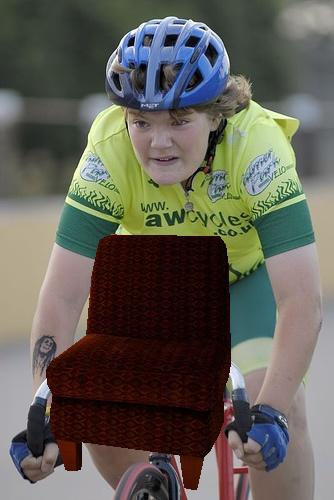tampered: (47, 235, 231, 490)
